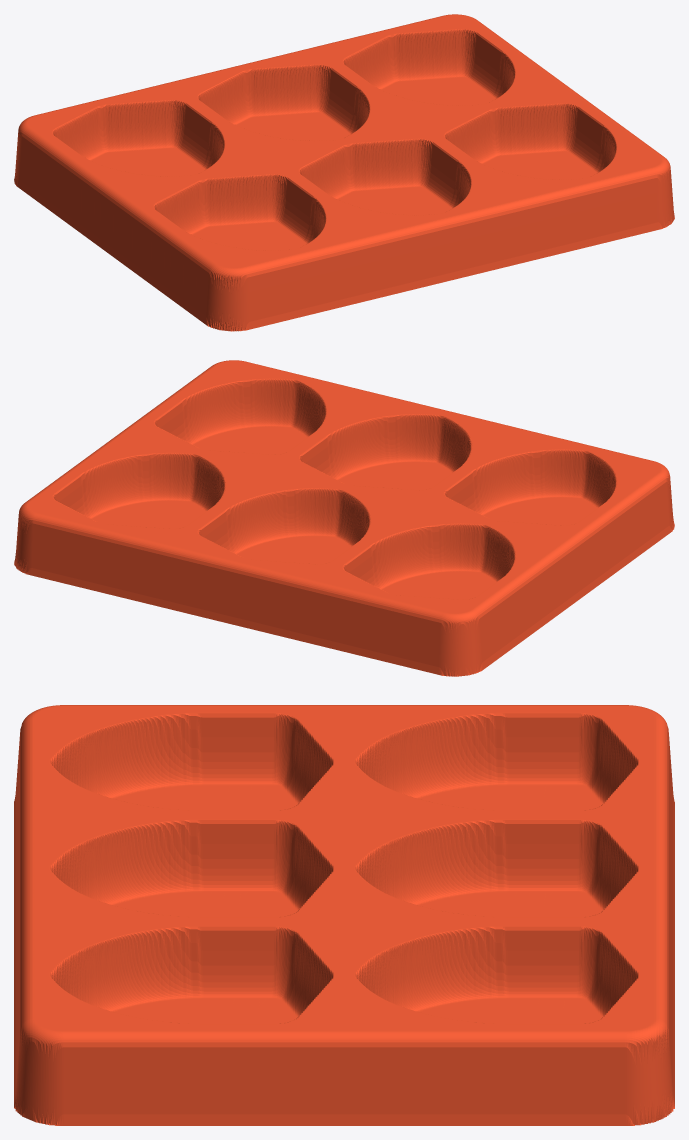
File: mold.glb
3 renders of one model, top to bottom at view 1: azimuth 30°, elevation 25°; view 2: azimuth 150°, elevation 25°; view 3: azimuth 270°, elevation 25°, orthographic. The views are drawn at different scales.
Visible parts, largest first — view 1: geometry_0; view 2: geometry_0; view 3: geometry_0.
Part boxes in pixels (bbox=[...]): geometry_0: bbox=[14, 14, 674, 331]; geometry_0: bbox=[14, 360, 674, 676]; geometry_0: bbox=[14, 705, 674, 1125].
Size of the model in its own units: 0.148 by 0.0175 by 0.1211.
